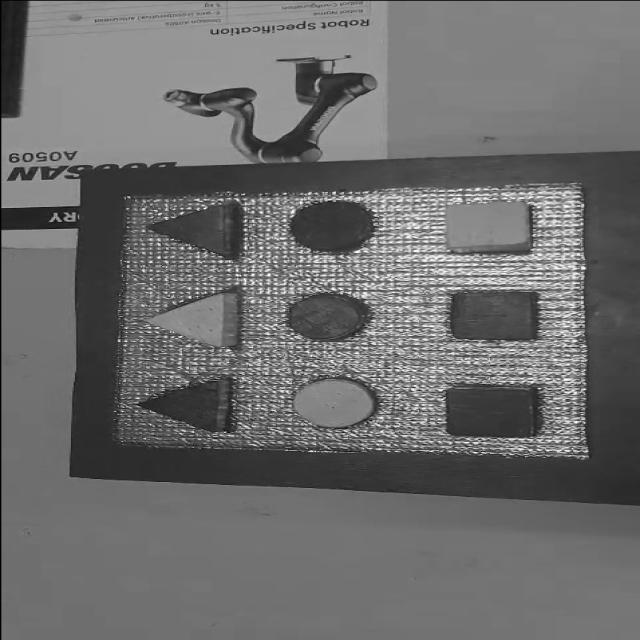bcircle: (288, 200, 383, 254)
bcube: (448, 287, 544, 344)
btriangle: (132, 374, 236, 435)
rcircle: (281, 287, 376, 343)
rcube: (440, 382, 544, 442)
rtriangle: (141, 202, 255, 264)
wb: (101, 175, 592, 464)
ycircle: (288, 376, 383, 432)
ycube: (438, 202, 542, 254)
ytriangle: (137, 283, 246, 352)
